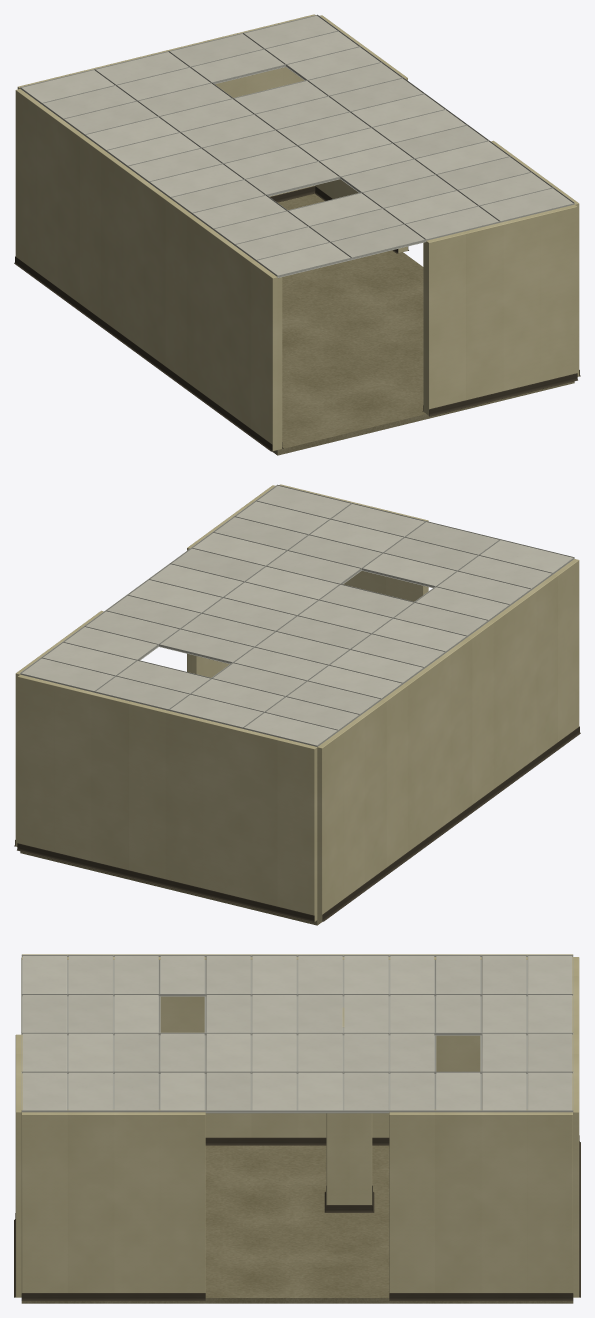
The model's file is short_archive.gltf.
3 renders of one model, top to bottom at view 1: azimuth 30°, elevation 25°; view 2: azimuth 150°, elevation 25°; view 3: azimuth 270°, elevation 25°, orthographic. The views are drawn at different scales.
Parts seen in each view (by area): view 1: short_archive; view 2: short_archive; view 3: short_archive.
Part boxes in pixels (x1=…): short_archive: x1=14, y1=14, x2=580, y2=455; short_archive: x1=14, y1=484, x2=580, y2=925; short_archive: x1=14, y1=954, x2=580, y2=1303.
Bounding box in the file's own units: 5.09 × 2.83 × 7.53.
5 materials, 5 textured.
